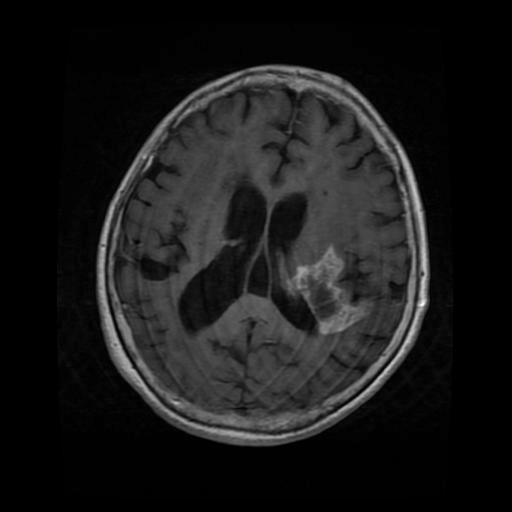Tumour-Glioma: (303, 255, 358, 332)
